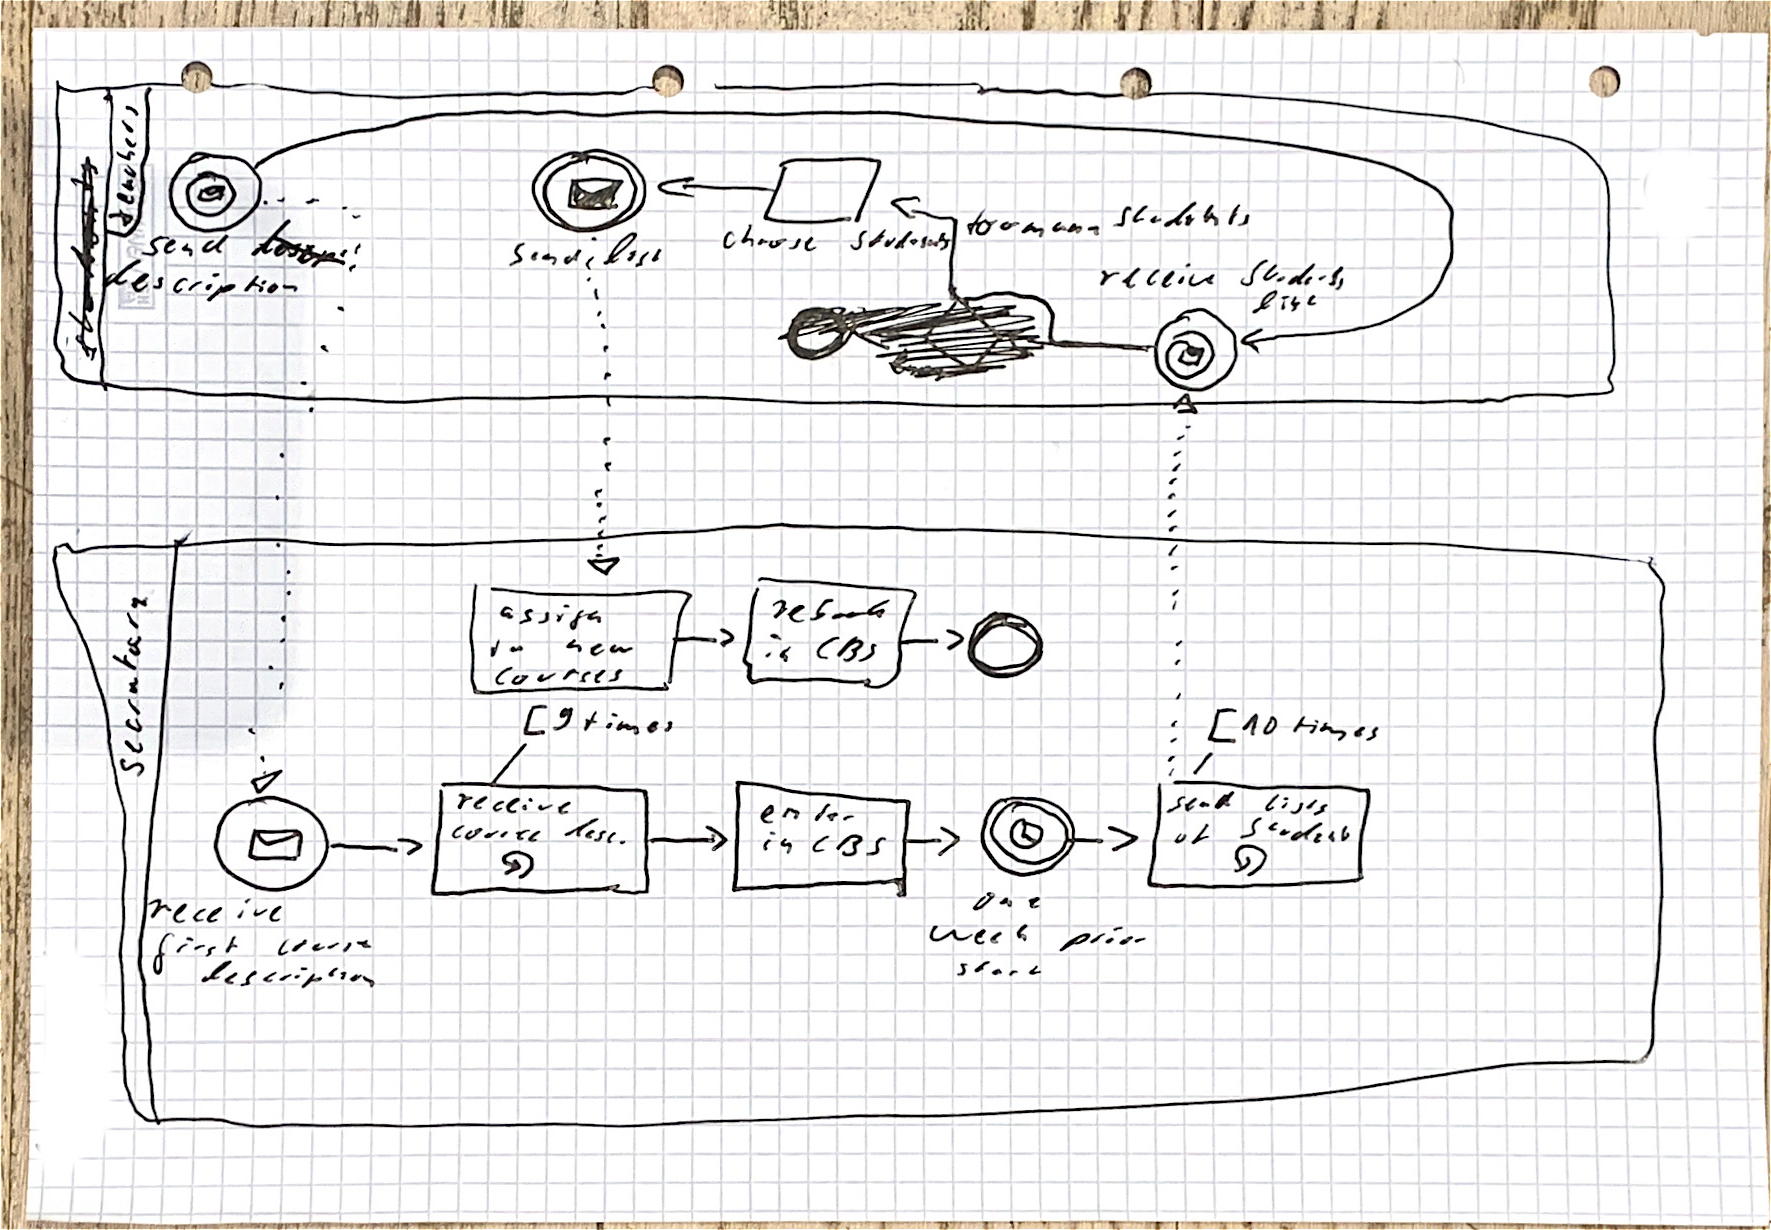10: (1240, 709, 1282, 740)
9: (549, 705, 577, 735)
CBS: (809, 830, 889, 859), (814, 632, 881, 665)
Lists: (1265, 792, 1332, 817)
Send: (507, 239, 586, 267)
Students: (1240, 254, 1352, 286), (1239, 816, 1356, 846), (848, 229, 954, 252)
assign: (496, 597, 610, 626)
choose: (717, 223, 820, 253)
course: (274, 935, 376, 957), (447, 825, 546, 843)
courses: (493, 663, 625, 690)
description: (105, 257, 302, 297), (199, 958, 378, 990)
enter: (756, 800, 858, 826)
first: (150, 931, 240, 978)
in: (762, 633, 795, 666), (760, 828, 797, 854)
less: (571, 812, 624, 840)
live: (1250, 288, 1323, 315)
lose: (601, 232, 668, 271)
many: (1021, 217, 1107, 242)
new: (564, 634, 639, 656)
of: (1171, 821, 1216, 848)
one: (970, 889, 1047, 913)
prior: (1055, 921, 1152, 954)
rebook: (768, 598, 892, 624)
receive: (148, 898, 287, 928), (1096, 260, 1220, 291), (454, 792, 575, 817)
secretary: (113, 595, 148, 780)
send: (139, 231, 233, 259), (1164, 787, 1238, 817)
start: (955, 957, 1047, 982)
students: (1111, 199, 1254, 231)
teachers: (109, 102, 139, 227)
times: (1295, 707, 1387, 735), (580, 708, 675, 733)
to: (487, 638, 528, 658)
too: (964, 208, 1019, 236)
week: (927, 923, 1034, 949)
